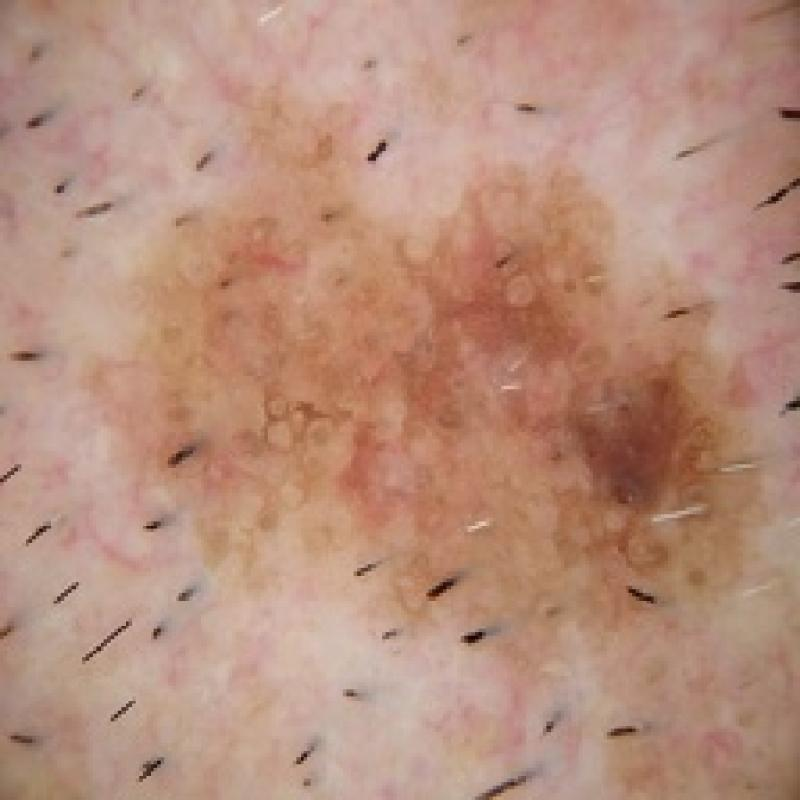malignant: (84, 96, 744, 699)
